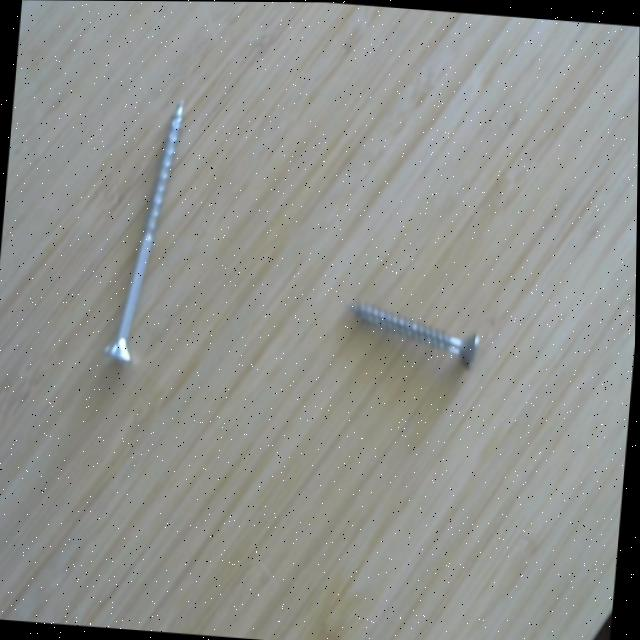Black screw: (340, 285, 488, 376)
Long screw: (98, 90, 193, 370)
